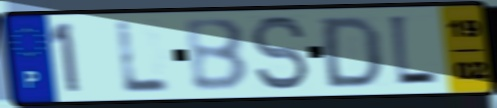1: (47, 21, 86, 96)
B: (181, 16, 252, 93)
D: (321, 13, 384, 89)
L: (114, 18, 174, 95), (385, 12, 440, 90)
S: (247, 14, 312, 93)
